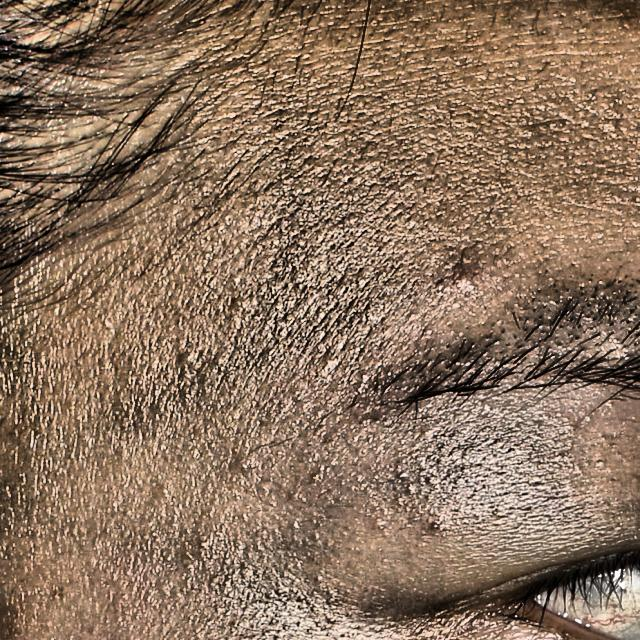whiteheads: (446, 265, 482, 297), (321, 356, 342, 378), (373, 514, 395, 534), (425, 515, 447, 534), (306, 466, 329, 484), (180, 350, 202, 368), (475, 400, 492, 420), (290, 488, 310, 504), (237, 460, 257, 474), (394, 468, 412, 482), (289, 518, 305, 532), (314, 572, 328, 583), (595, 459, 605, 472), (490, 509, 504, 517)
